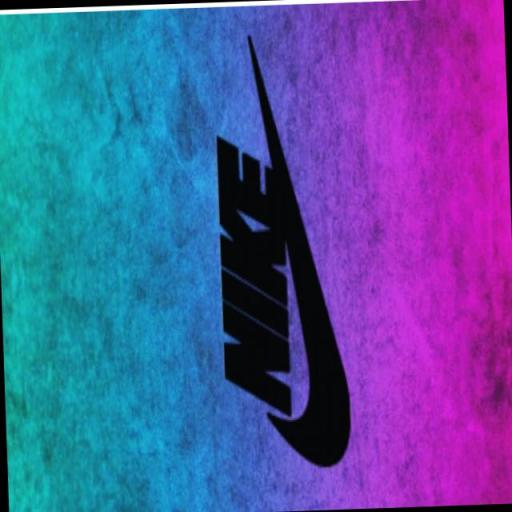Nike: (266, 98, 354, 468), (212, 125, 295, 420)
